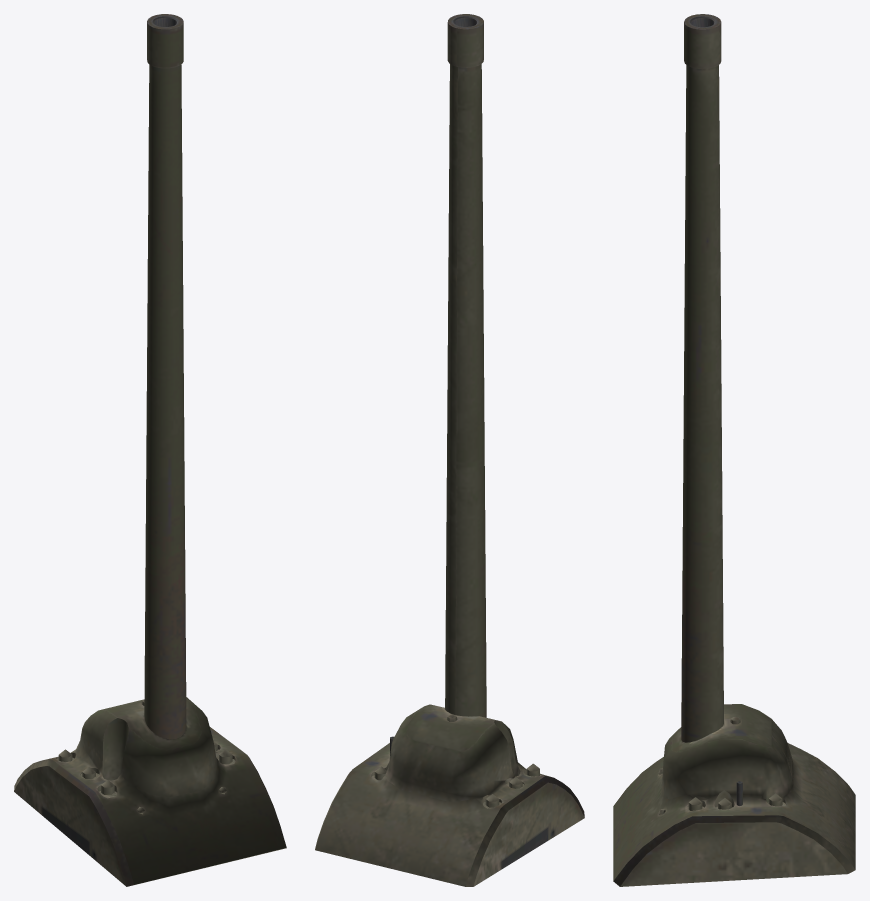
The model's file is Gun_12.glb.
3 renders of one model, left to right at view 1: azimuth 30°, elevation 25°; view 2: azimuth 150°, elevation 25°; view 3: azimuth 270°, elevation 25°, orthographic. The views are drawn at different scales.
Parts seen in each view (by area): view 1: set_0_group_0; view 2: set_0_group_0; view 3: set_0_group_0.
Part boxes in pixels (x1,y1,x2,y2): set_0_group_0: (14,14,286,886); set_0_group_0: (315,14,584,886); set_0_group_0: (613,14,855,886).
Size of the model in its own units: 0.6818 by 3.32 by 0.8834.
Materials: 1 (1 with a texture image).
